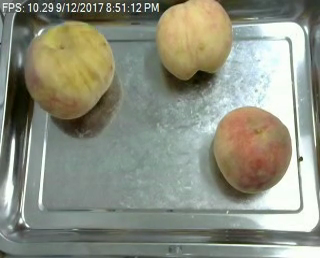Peach: (24, 19, 115, 118), (212, 104, 292, 192), (156, 0, 234, 81)
